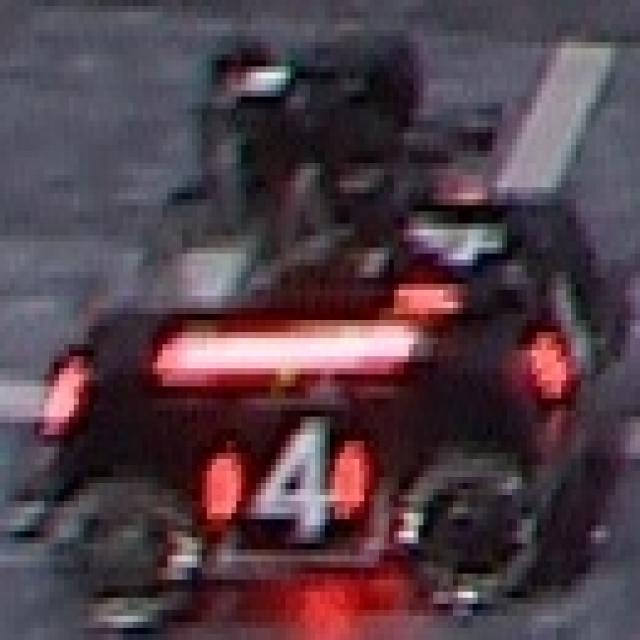R4: (195, 404, 376, 550), (389, 160, 522, 335), (507, 260, 620, 398)
